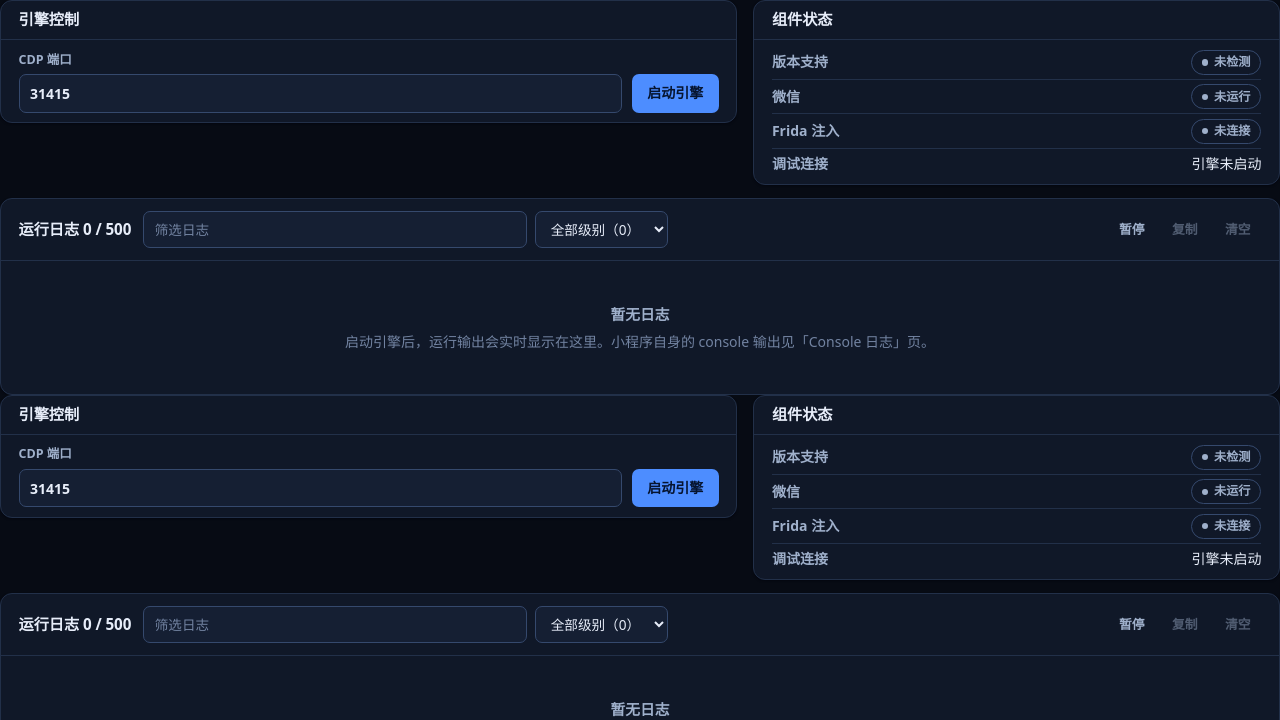
ControlView › rejects an out-of-range port and disables starting
Step 1. Replace the text in the 2nd number field with test id "cdp-port" with "70000" → point(320, 488), box [19,469,622,508]
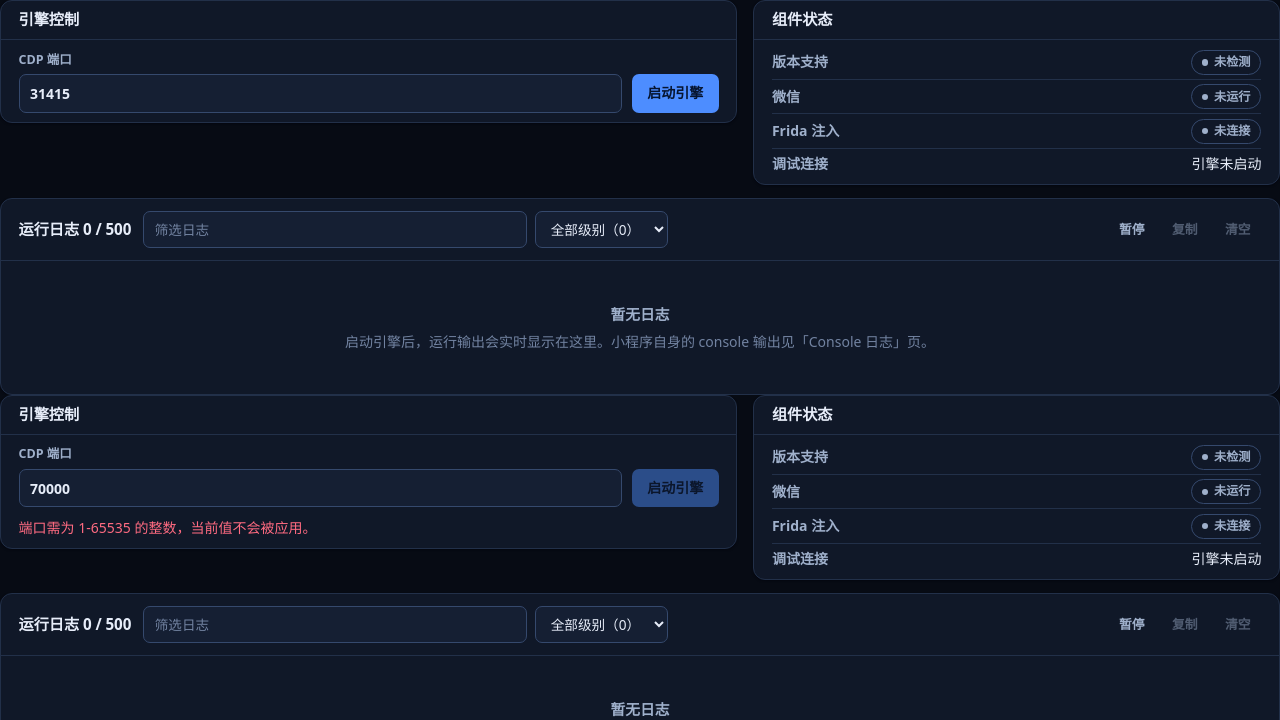
Check: the text "端口需为 1-65535 的整数" is shown, box [19,518,316,537]
Check: the 2nd button with test id "engine-toggle" is disabled, box [632,469,719,507]
